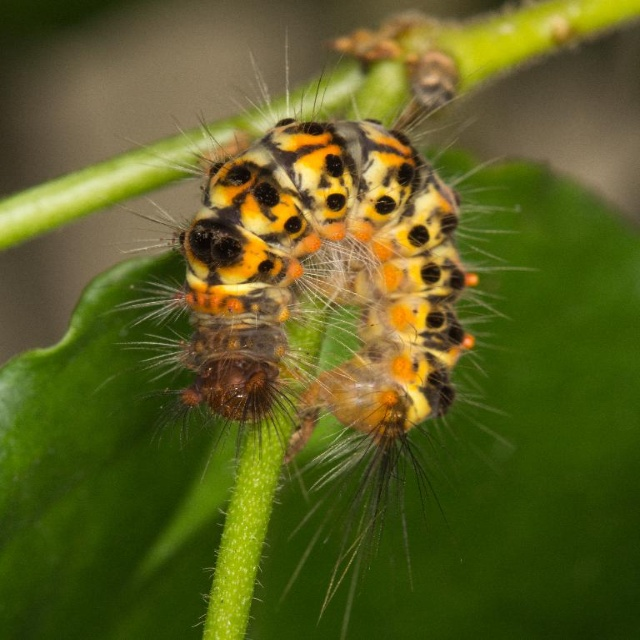Caterpillar: (93, 22, 541, 627)
